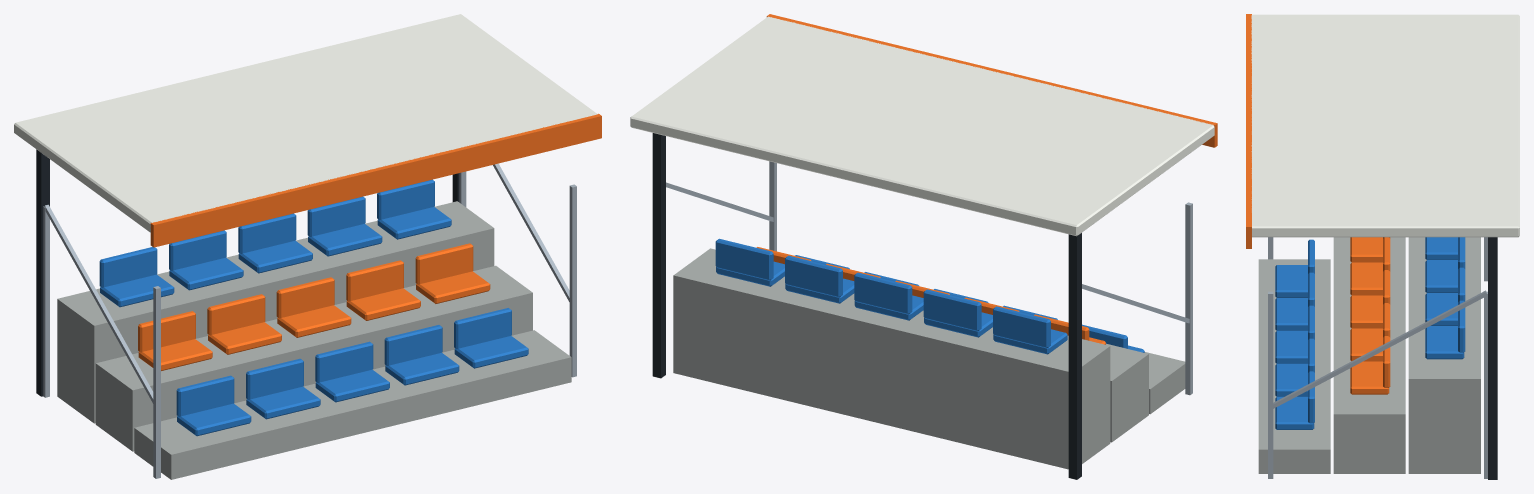
File: grandstand_covered.glb
The picture shows the model from 3 angles, left to right: view 1: azimuth 30°, elevation 25°; view 2: azimuth 150°, elevation 25°; view 3: azimuth 270°, elevation 25°; orthographic projection. The views are drawn at different scales.
Visible parts, largest first — view 1: grandstand_covered__static; view 2: grandstand_covered__static; view 3: grandstand_covered__static.
Boxes of the visible parts, <box> form: grandstand_covered__static: <box>14,14,601,479</box>; grandstand_covered__static: <box>630,14,1217,479</box>; grandstand_covered__static: <box>1246,14,1519,479</box>.
Size of the model in its own units: 8.4 by 4.75 by 4.56.
